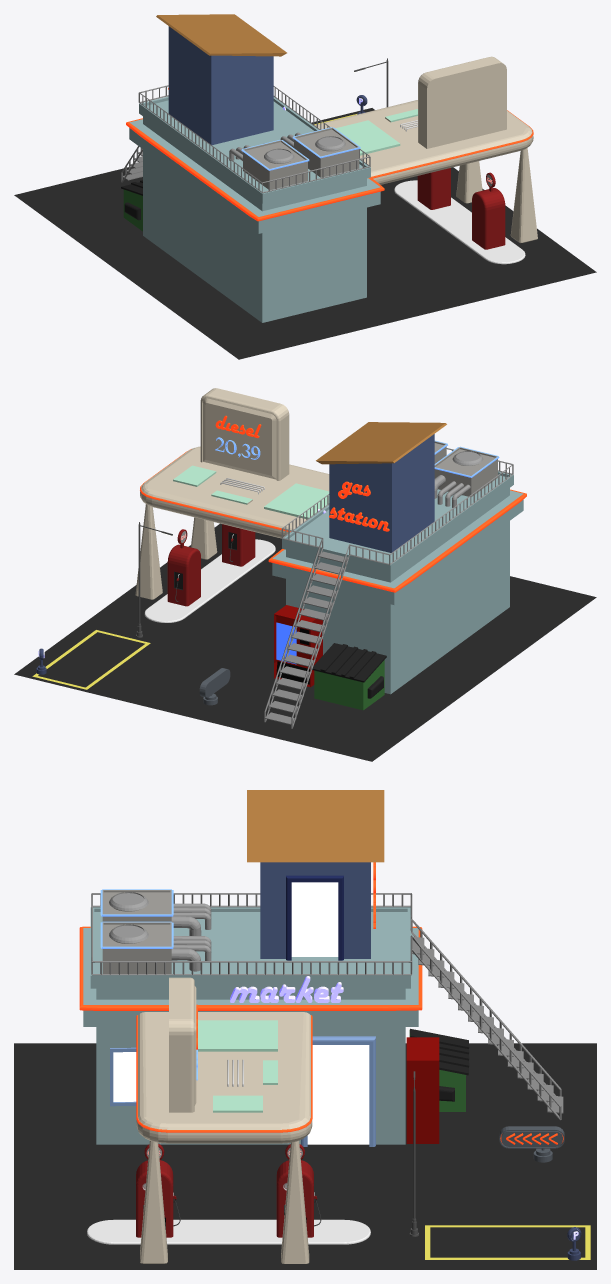
Rendered from gas_station.glb.
3 views of the same model, one above another, from view 1: azimuth 30°, elevation 25°; view 2: azimuth 150°, elevation 25°; view 3: azimuth 270°, elevation 25° (orthographic). The views are drawn at different scales.
Parts seen in each view (by area): view 1: market, Plane, gas_sign, shack, gas_pump, air_conditioning, bin; view 2: Plane, market, gas_sign, shack, gas_pump, bin, air_conditioning, automat, signpost; view 3: Plane, market, gas_sign, shack, gas_pump, air_conditioning, automat, bin, signpost.
Part boxes in pixels (bbox=[...]): market: bbox=[121, 85, 384, 322]; Plane: bbox=[14, 108, 596, 359]; gas_sign: bbox=[314, 56, 537, 242]; shack: bbox=[156, 14, 286, 145]; gas_pump: bbox=[394, 168, 525, 264]; air_conditioning: bbox=[229, 127, 360, 189]; bin: bbox=[121, 180, 142, 231]; Plane: bbox=[14, 523, 596, 761]; market: bbox=[264, 448, 526, 728]; gas_sign: bbox=[135, 388, 329, 599]; shack: bbox=[316, 422, 446, 552]; gas_pump: bbox=[144, 524, 275, 622]; bin: bbox=[312, 643, 386, 710]; air_conditioning: bbox=[434, 440, 499, 508]; automat: bbox=[274, 605, 322, 687]; signpost: bbox=[199, 668, 230, 705]; Plane: bbox=[14, 1043, 596, 1269]; market: bbox=[79, 893, 563, 1146]; gas_sign: bbox=[136, 977, 312, 1263]; shack: bbox=[247, 790, 384, 960]; gas_pump: bbox=[87, 1144, 370, 1244]; air_conditioning: bbox=[100, 889, 211, 973]; automat: bbox=[406, 1037, 439, 1143]; bin: bbox=[409, 1028, 469, 1111]; signpost: bbox=[499, 1126, 564, 1162].
Size of the model in its own units: 14.01 by 8.49 by 15.24.
